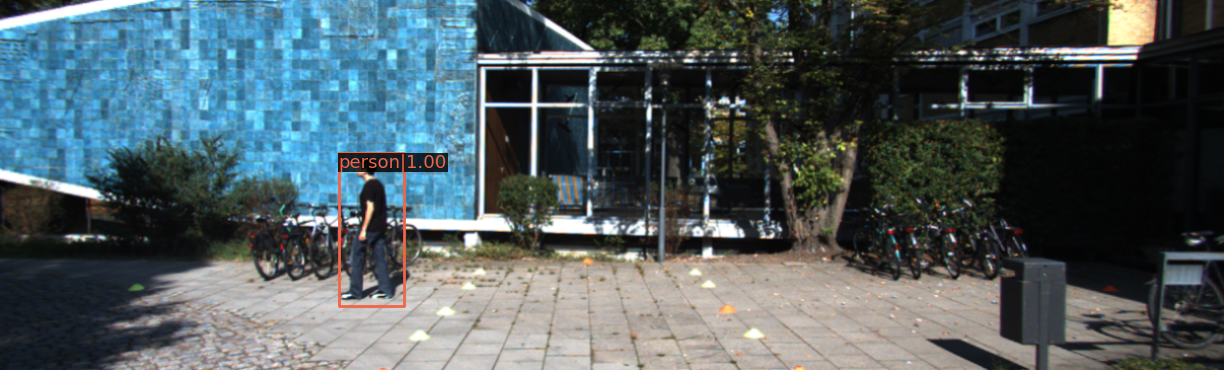person: (335, 159, 404, 302)
